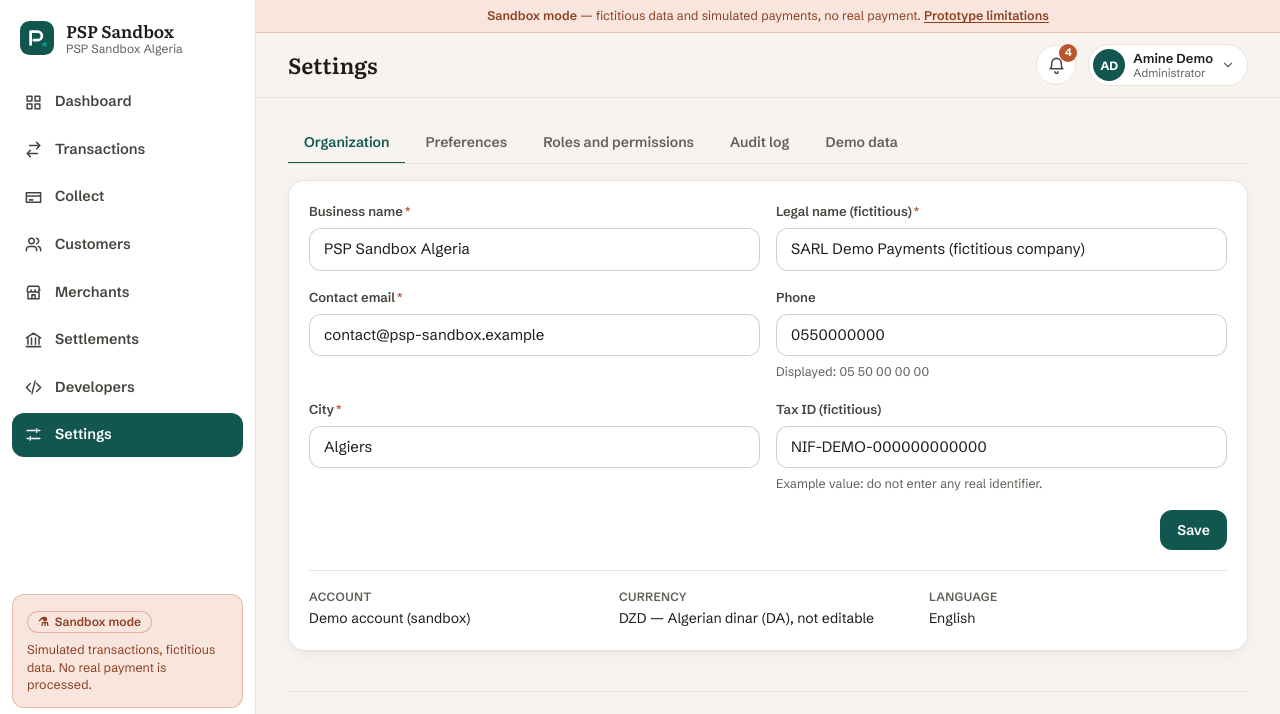
Scenario: settlements, roles and settings › edits the organization profile with validation, then logs the change
Replace the text in the field labelled "Business name*" with "Atlas Payments Demo" at (534, 250), box [309,228,760,271]
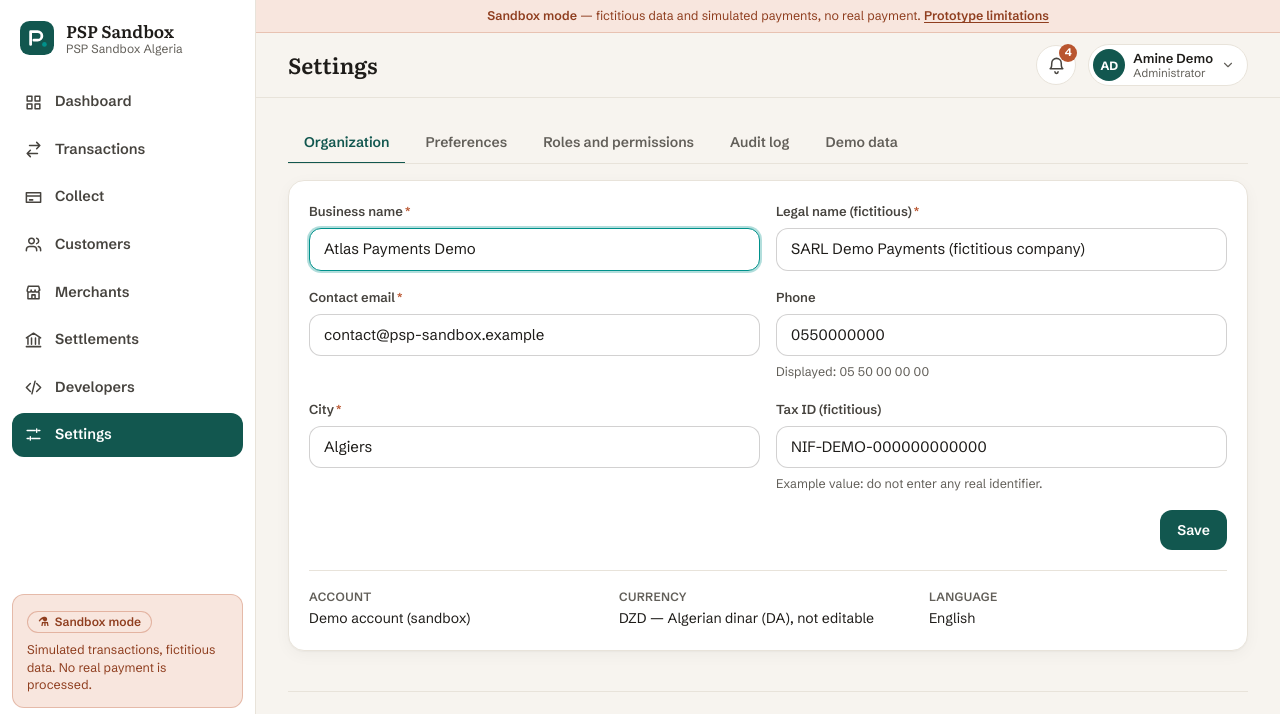
Replace the text in the field labelled "Contact email*" with "not-an-email" at (534, 335), box [309,314,760,356]
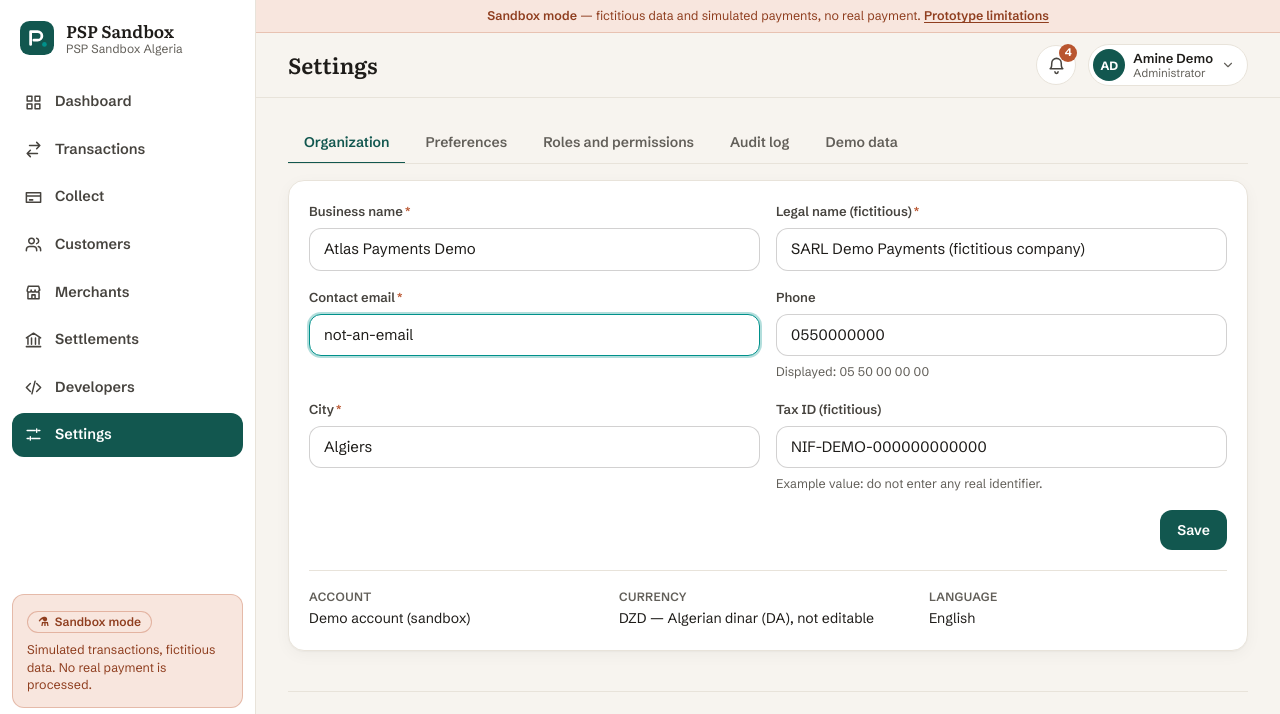
Click the button "Save" at (1194, 530), box [1160,510,1227,550]
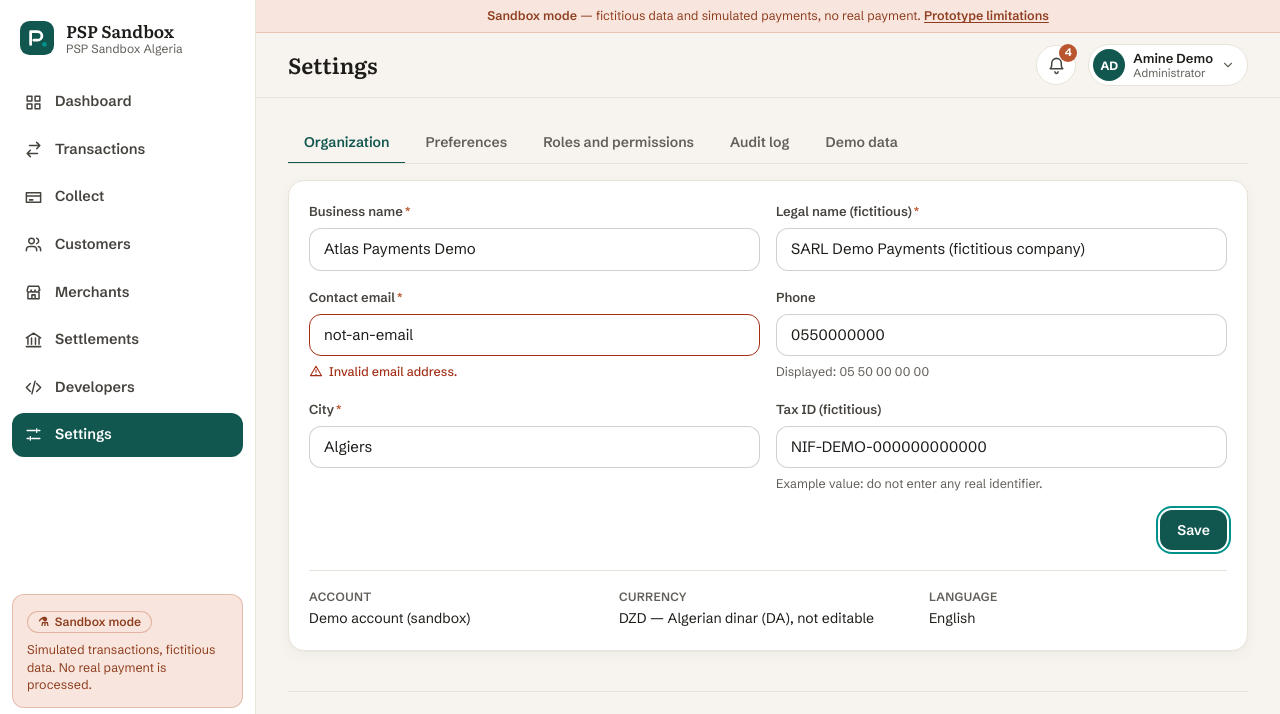
Result: the text "Invalid email address." is shown at [329,362,457,383]
Replace the text in the field labelled "Contact email*" with "contact@atlas.example" at (534, 335), box [309,314,760,356]
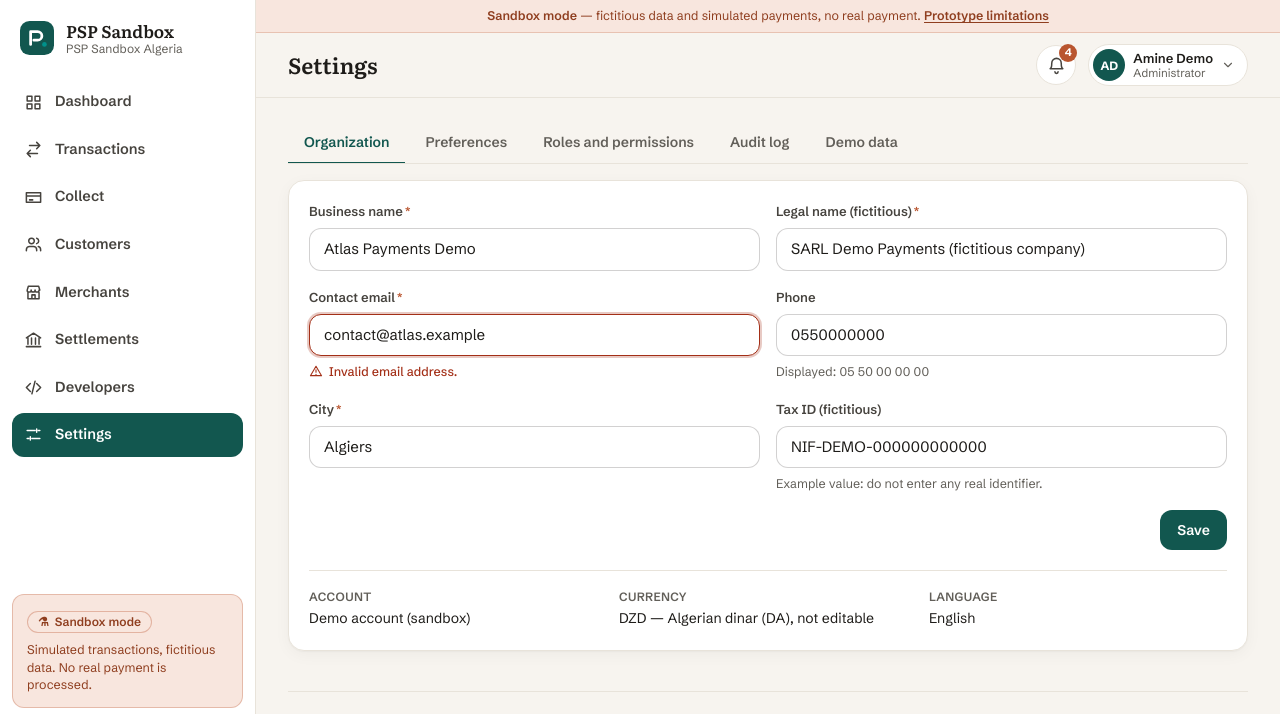
Click the button "Save" at (1194, 530), box [1160,510,1227,550]
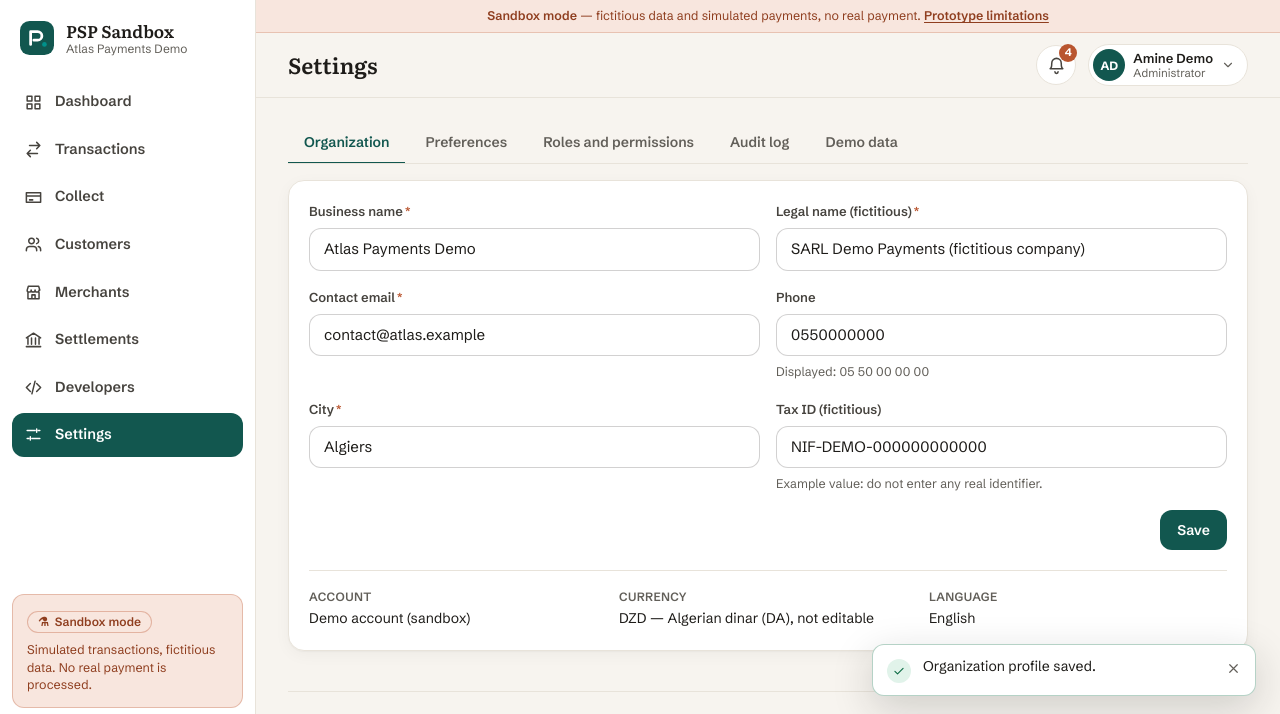
Result: the text "Atlas Payments Demo" is shown at [66,41,188,56]
